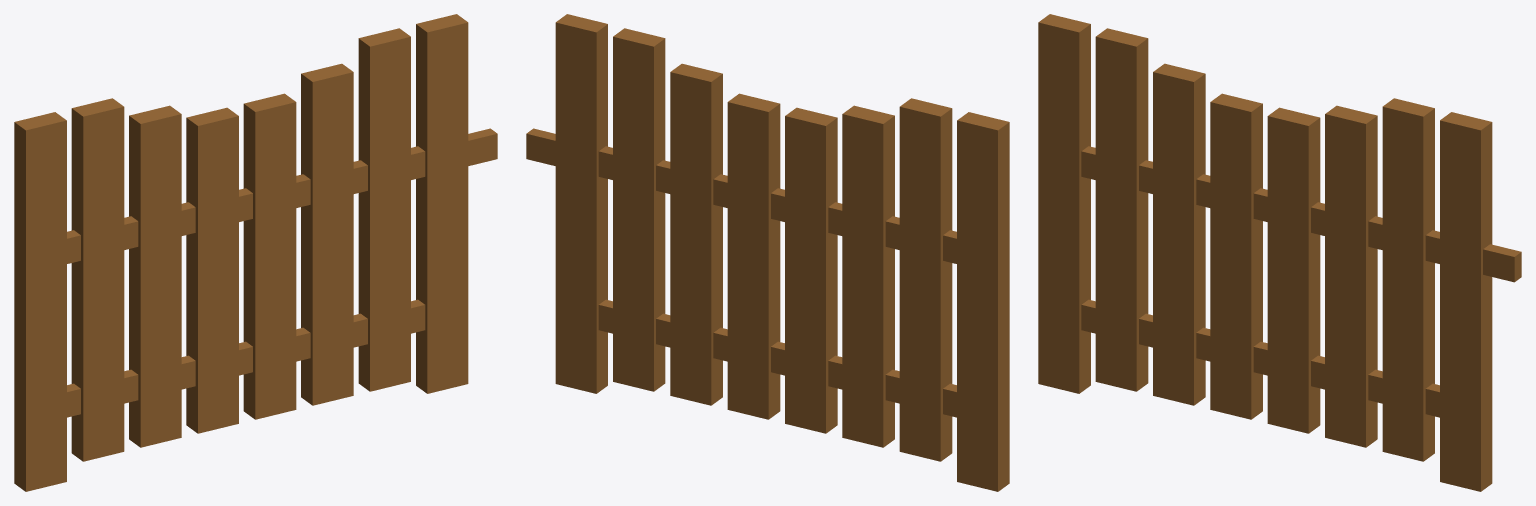
The model's file is Fence_5.fbx.
The picture shows the model from 3 angles, left to right: view 1: azimuth 30°, elevation 25°; view 2: azimuth 150°, elevation 25°; view 3: azimuth 330°, elevation 25°; orthographic projection.
Visible parts, largest first — view 1: Fence_6; view 2: Fence_6; view 3: Fence_6.
Boxes of the visible parts, <box> form: Fence_6: <box>14,14,497,491</box>; Fence_6: <box>526,14,1009,491</box>; Fence_6: <box>1038,14,1521,491</box>.
Size of the model in its own units: 119 by 87.05 by 5.04.
